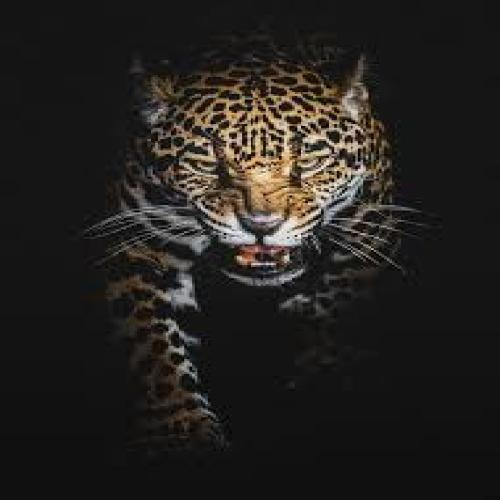jaguar_not-endangered: (111, 62, 402, 428), (457, 428, 458, 430)
